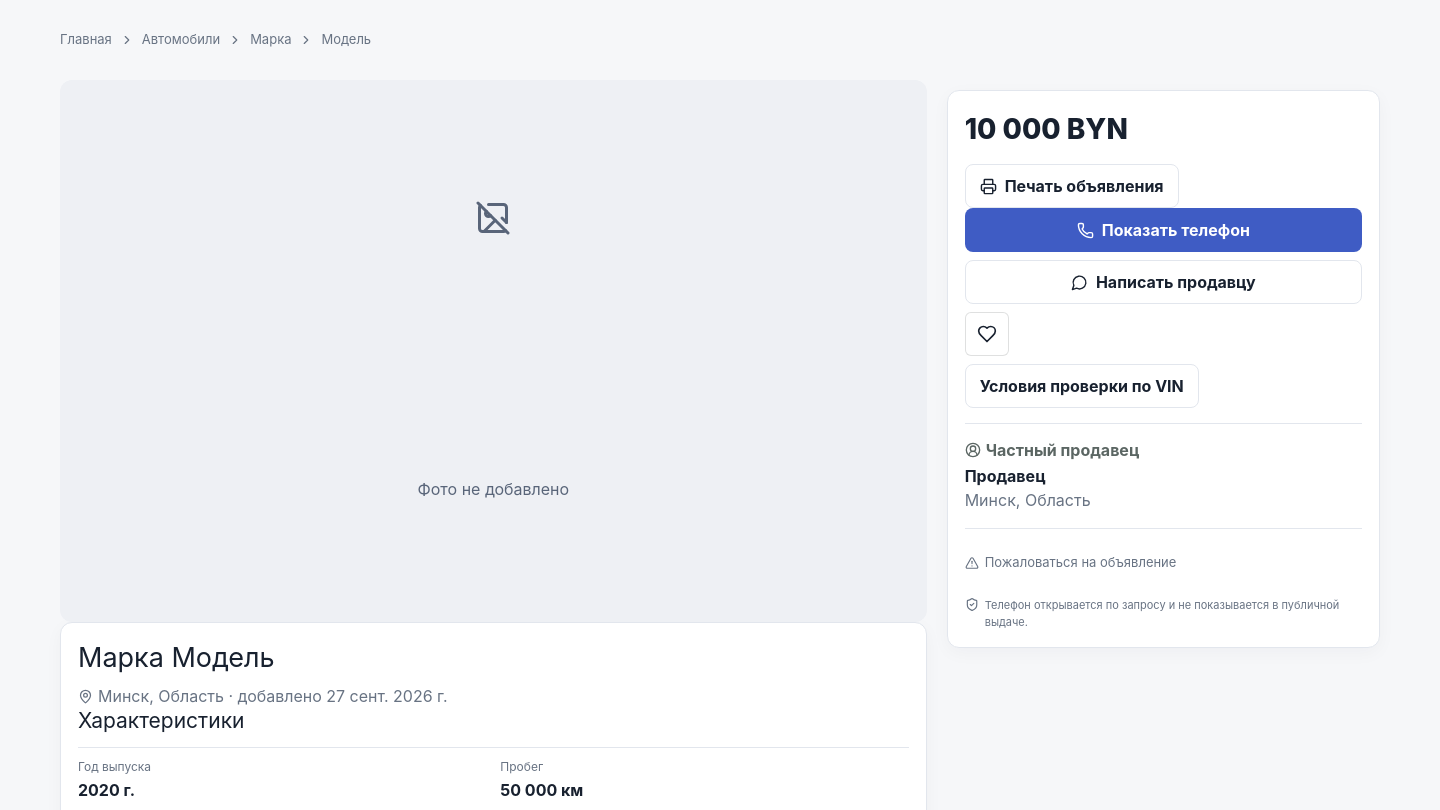
Test case: contact reveal › sends only one reveal request while a phone lookup is pending
The width and height of the screenshot is (1440, 810).
Click the button with class "contact-reveal": (1163, 230) [965, 208, 1362, 252]
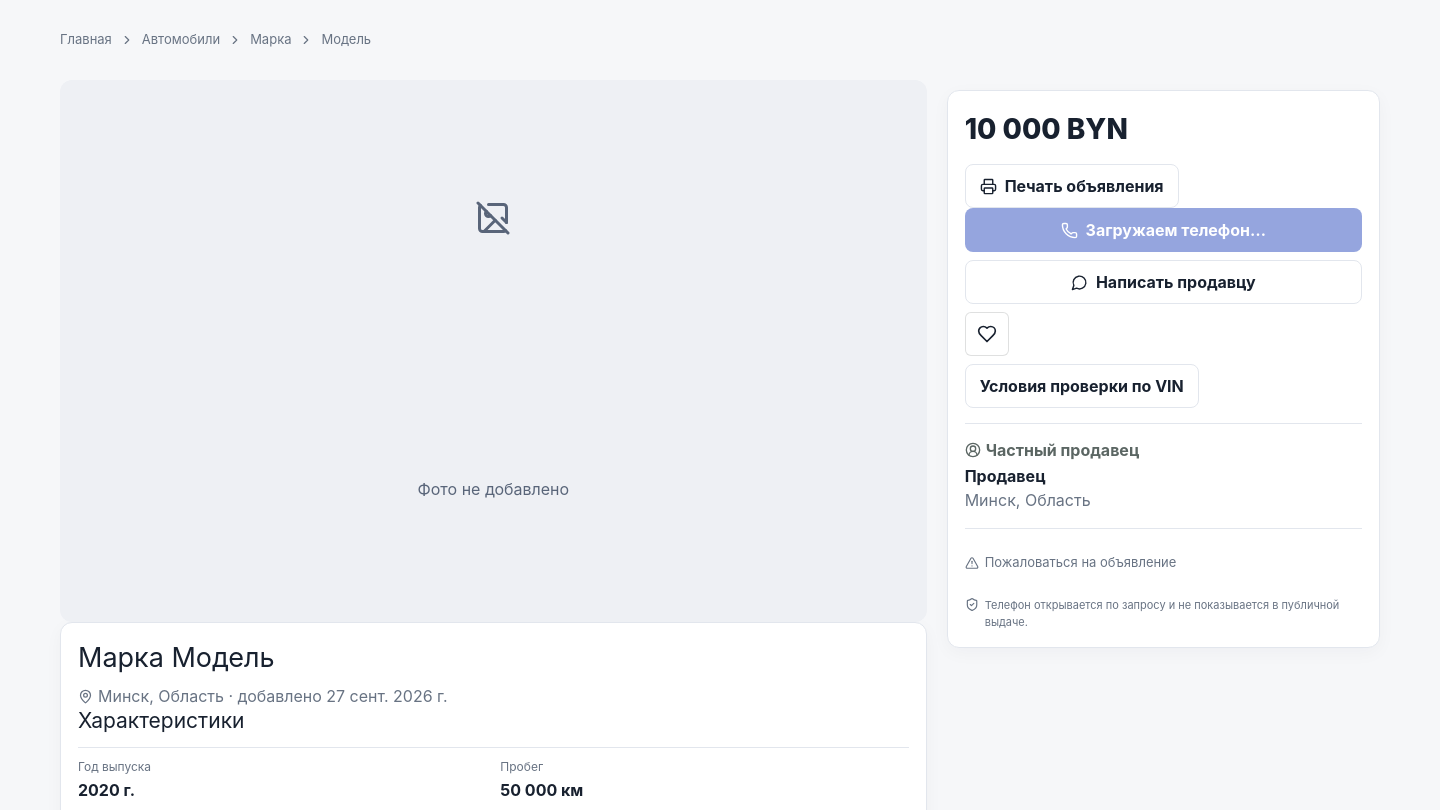
Now the button with class "contact-reveal" is disabled
Click the button with class "contact-reveal": (1163, 230) [965, 208, 1362, 252]
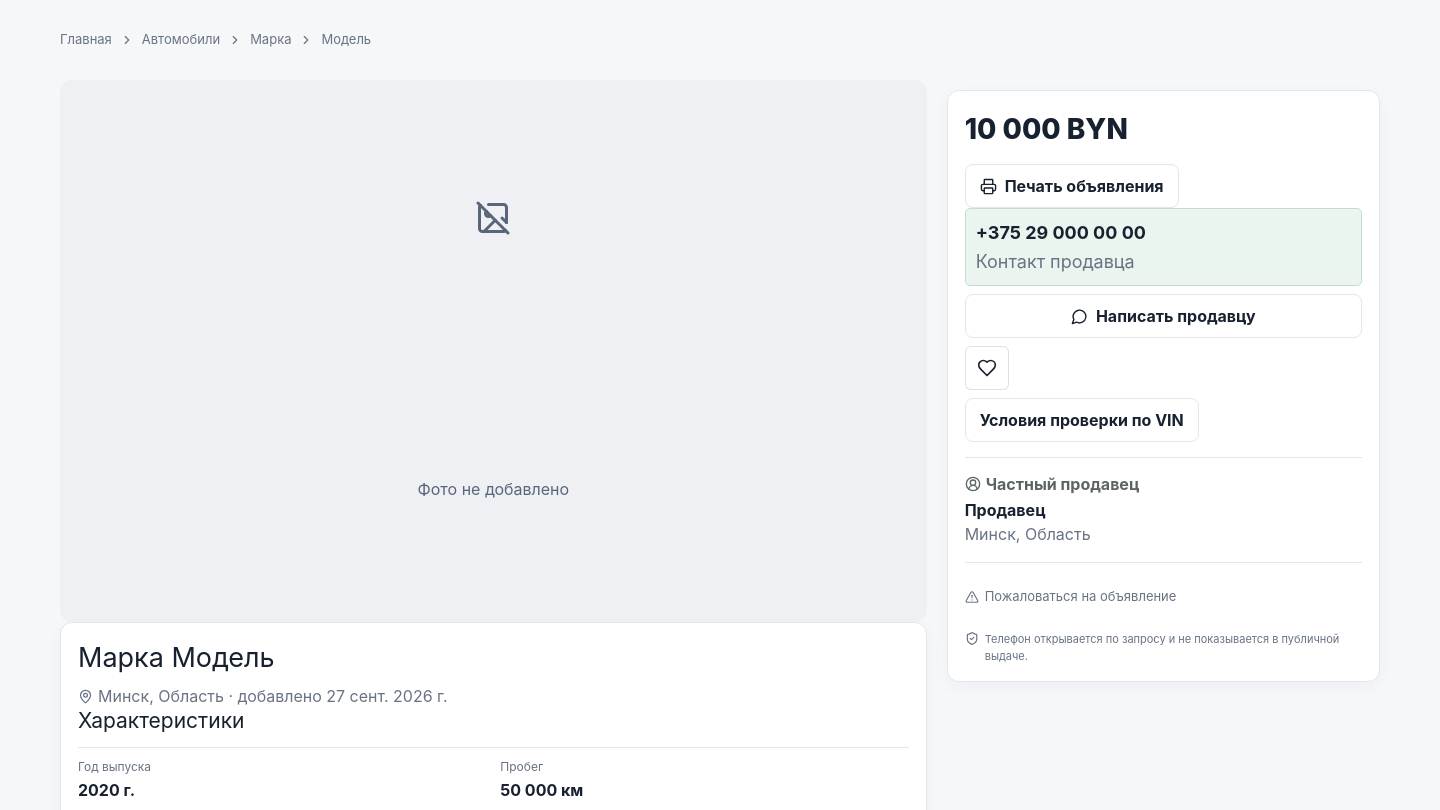
Now the text "+375 29 000 00 00" is shown, box [976, 222, 1146, 243]
